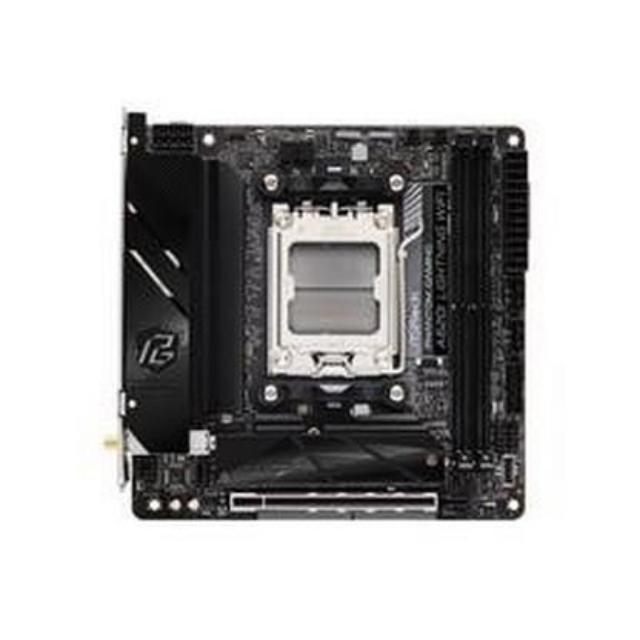Mainboard: (108, 91, 538, 534)
